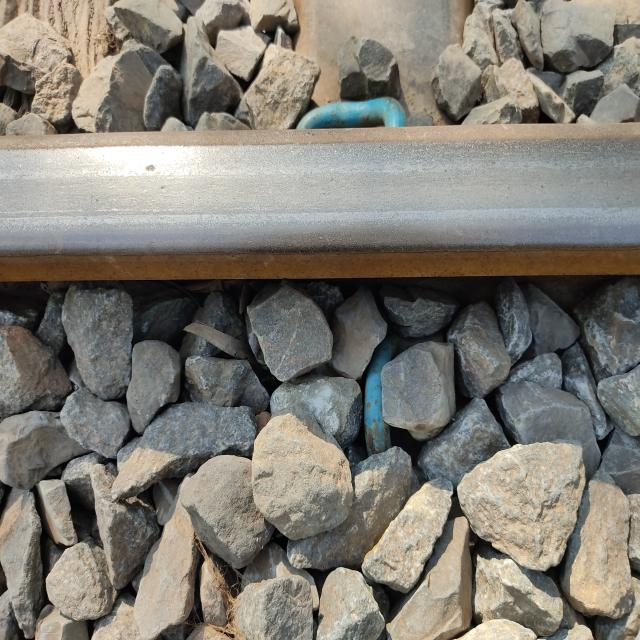No Fault: (27, 138, 611, 234)
